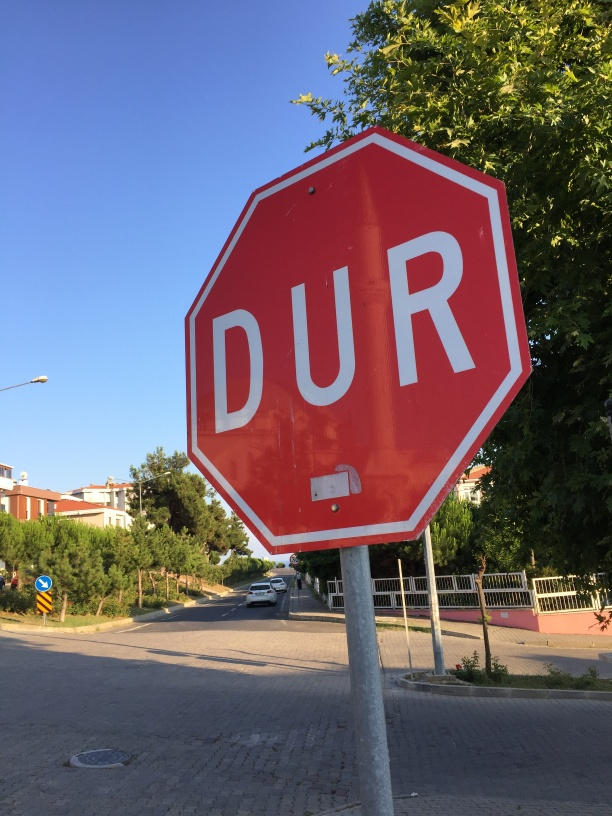arac_dur_isareti: (167, 118, 533, 666)
